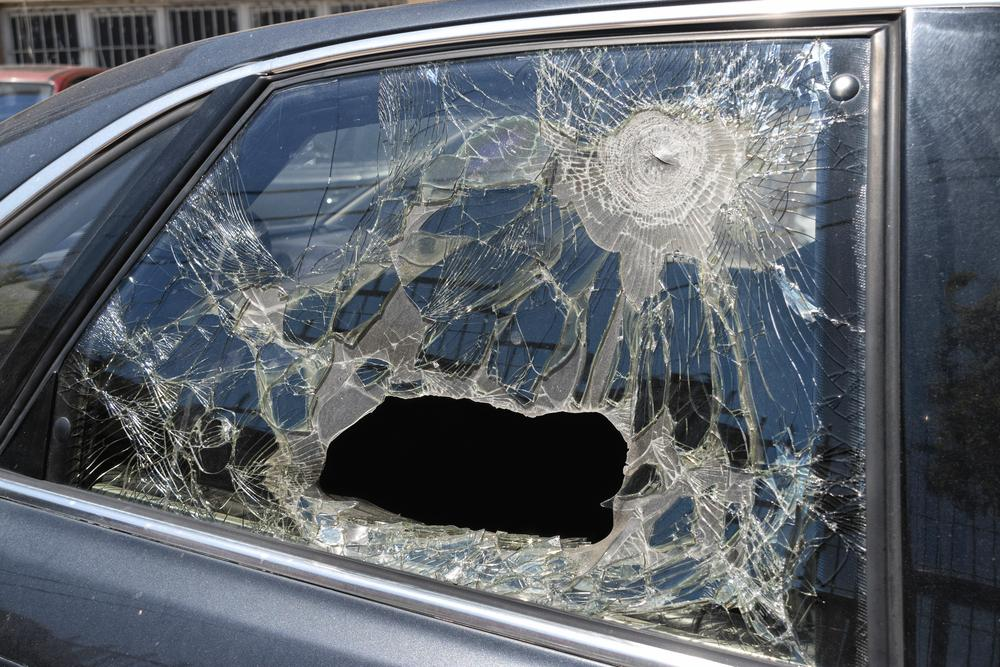glass shatter: (0, 37, 871, 667)
